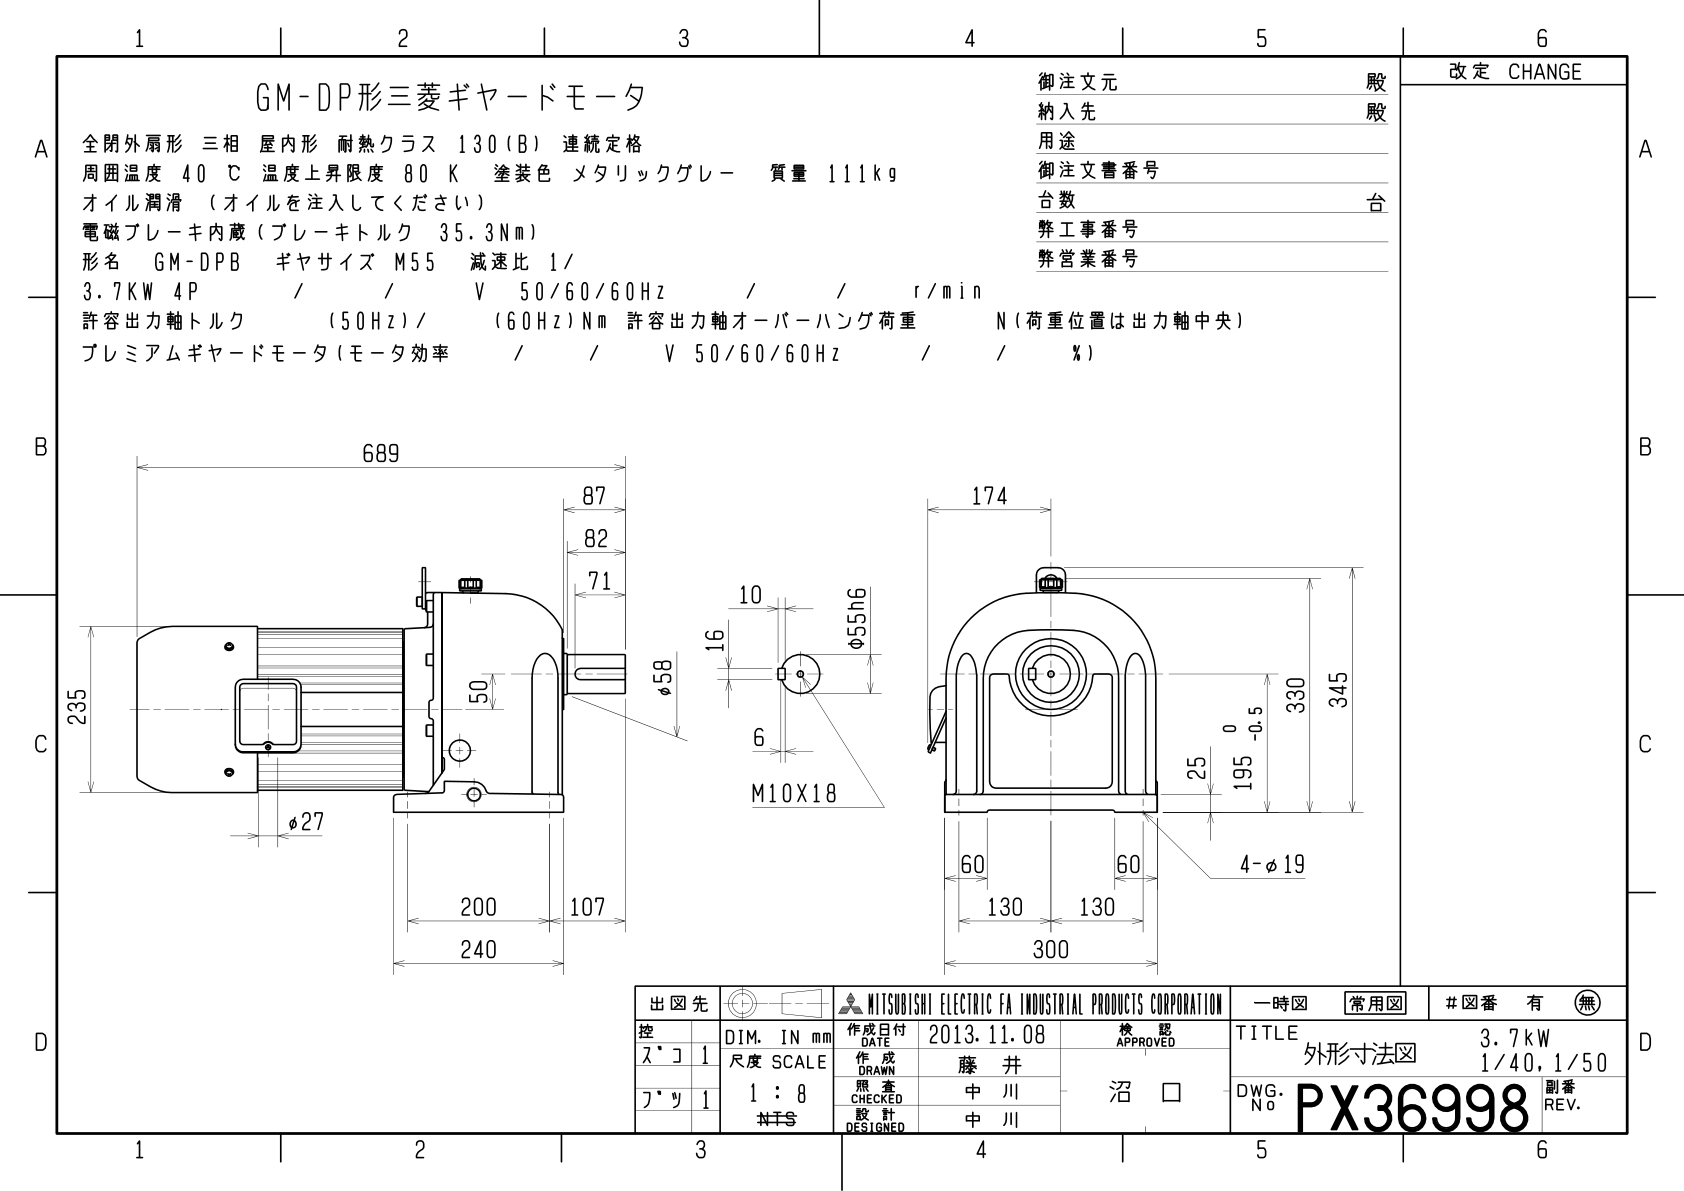GM_DP_屋内_三相_脚: (58, 400, 1389, 974)
